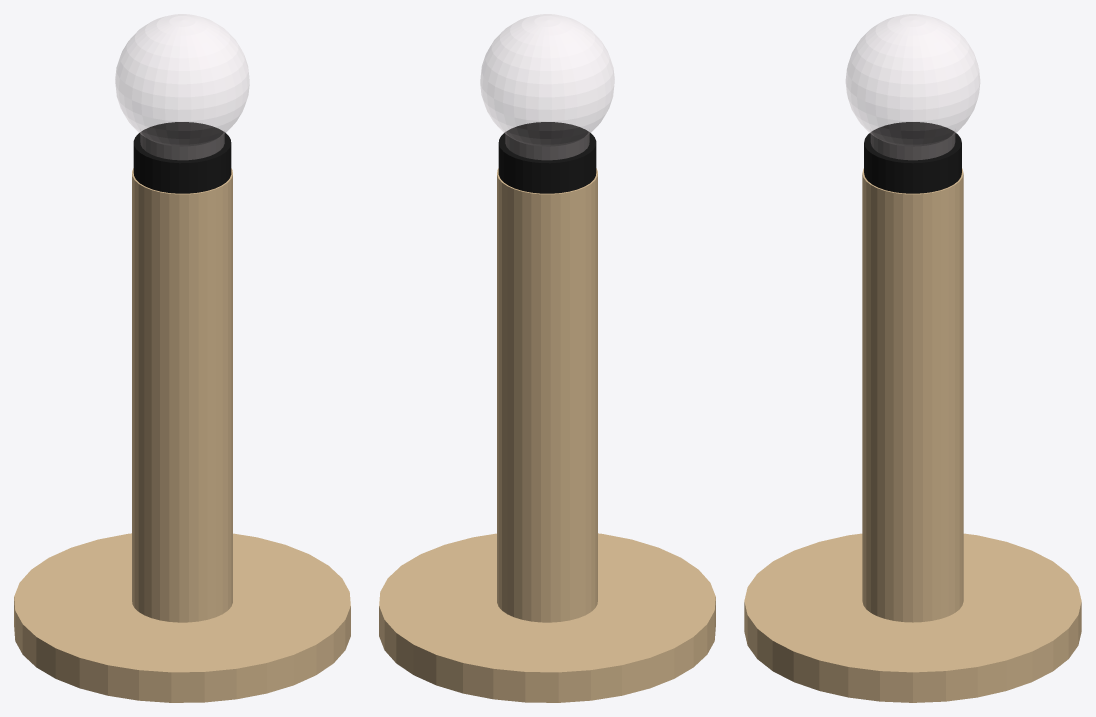
Rendered from simple_lamp.glb.
3 views of the same model, side by side, from view 1: azimuth 30°, elevation 25°; view 2: azimuth 150°, elevation 25°; view 3: azimuth 270°, elevation 25° (orthographic).
Parts seen in each view (by area): view 1: base, bulb, socket; view 2: base, bulb, socket; view 3: base, bulb, socket.
Boxes of the visible parts, x1,y1,x2,y2 form: base: [14, 168, 350, 702]; bulb: [115, 14, 249, 159]; socket: [133, 122, 231, 193]; base: [379, 168, 715, 702]; bulb: [480, 14, 614, 159]; socket: [498, 122, 596, 193]; base: [744, 168, 1081, 702]; bulb: [846, 14, 979, 159]; socket: [864, 122, 961, 193].
Size of the model in its own units: 0.2 by 0.4 by 0.2.
